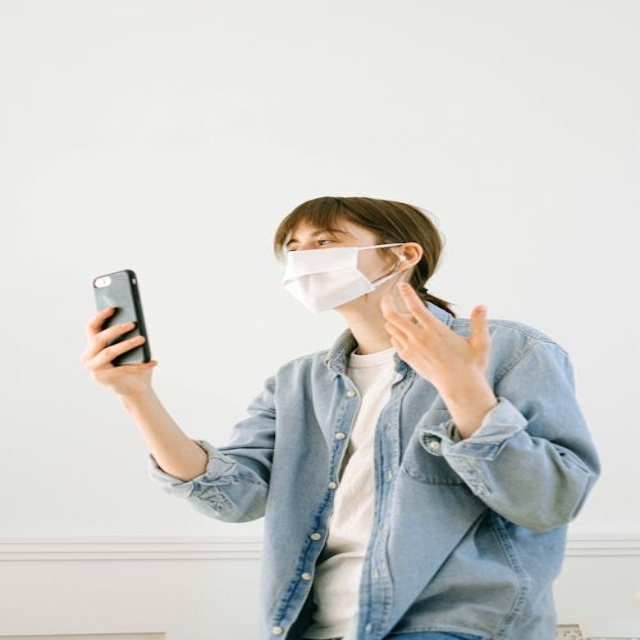Mascara: (281, 242, 411, 314)
Sin_gafas: (285, 238, 301, 248), (315, 239, 337, 246)
Sin_guantes: (371, 279, 494, 387), (80, 306, 157, 394)
